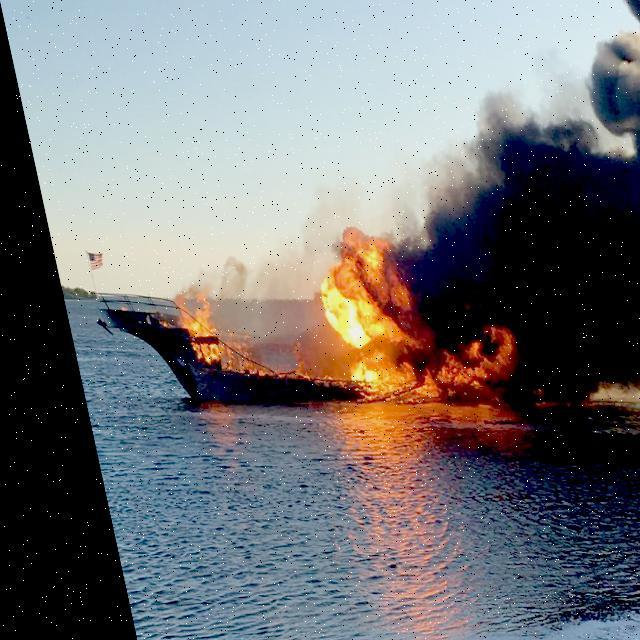Fire: (304, 224, 476, 400), (162, 284, 222, 370)
